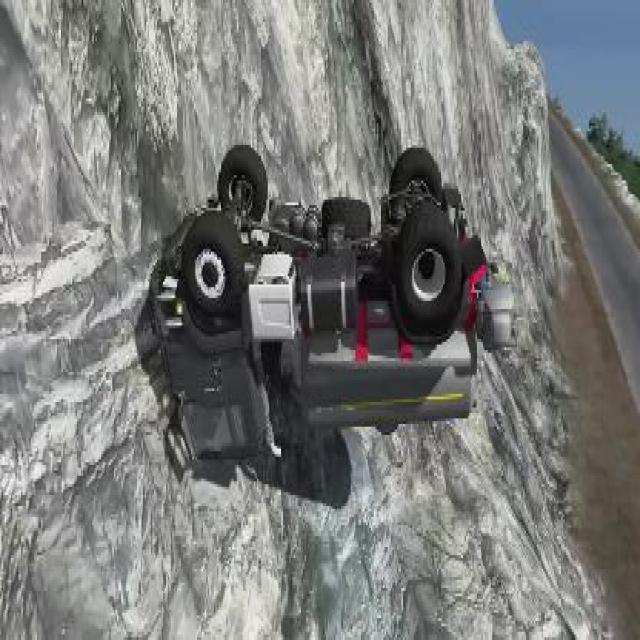accident: (132, 123, 492, 462)
